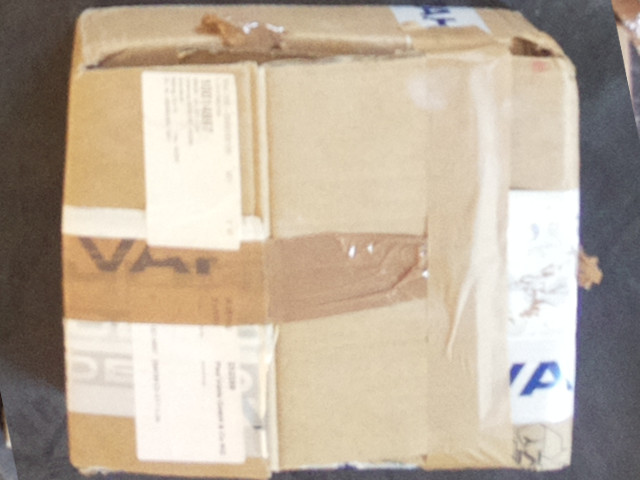cardboard: (61, 8, 578, 473)
